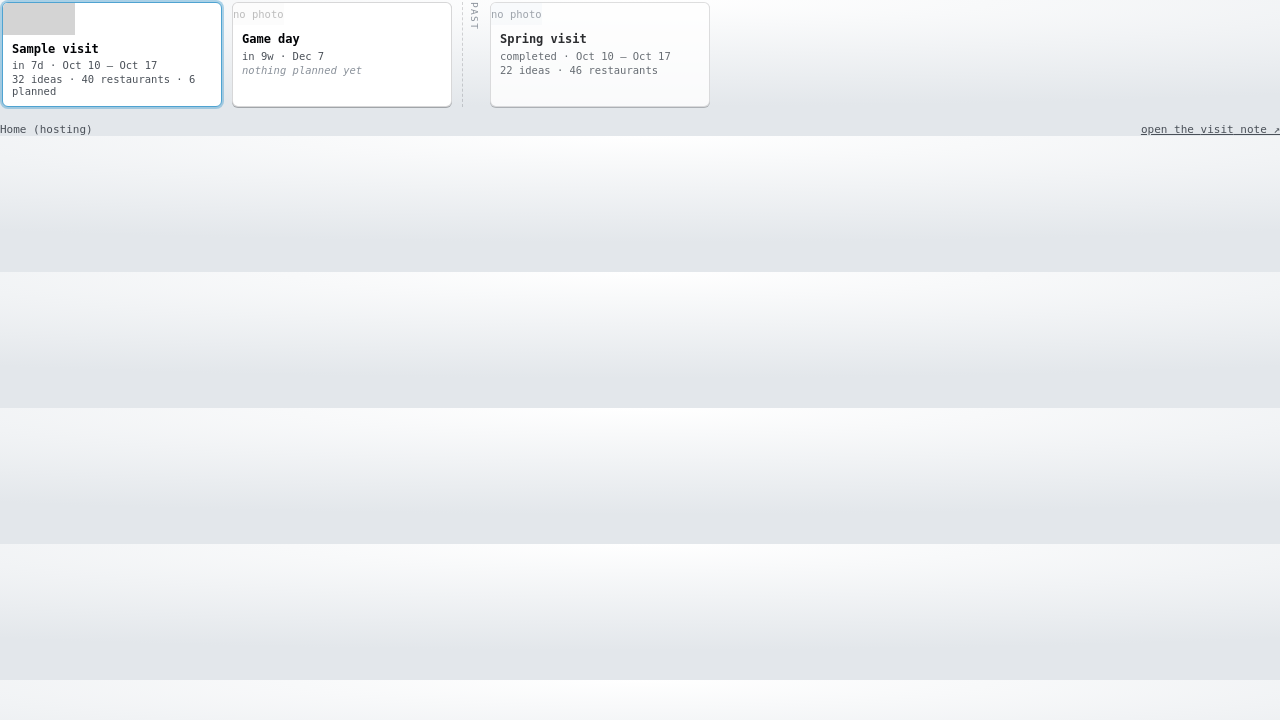
it: TripPicker › opens the selected entry's note
The width and height of the screenshot is (1280, 720).
Click the link "open the visit note ↗" at (1210, 130), box [1141,123,1279,136]
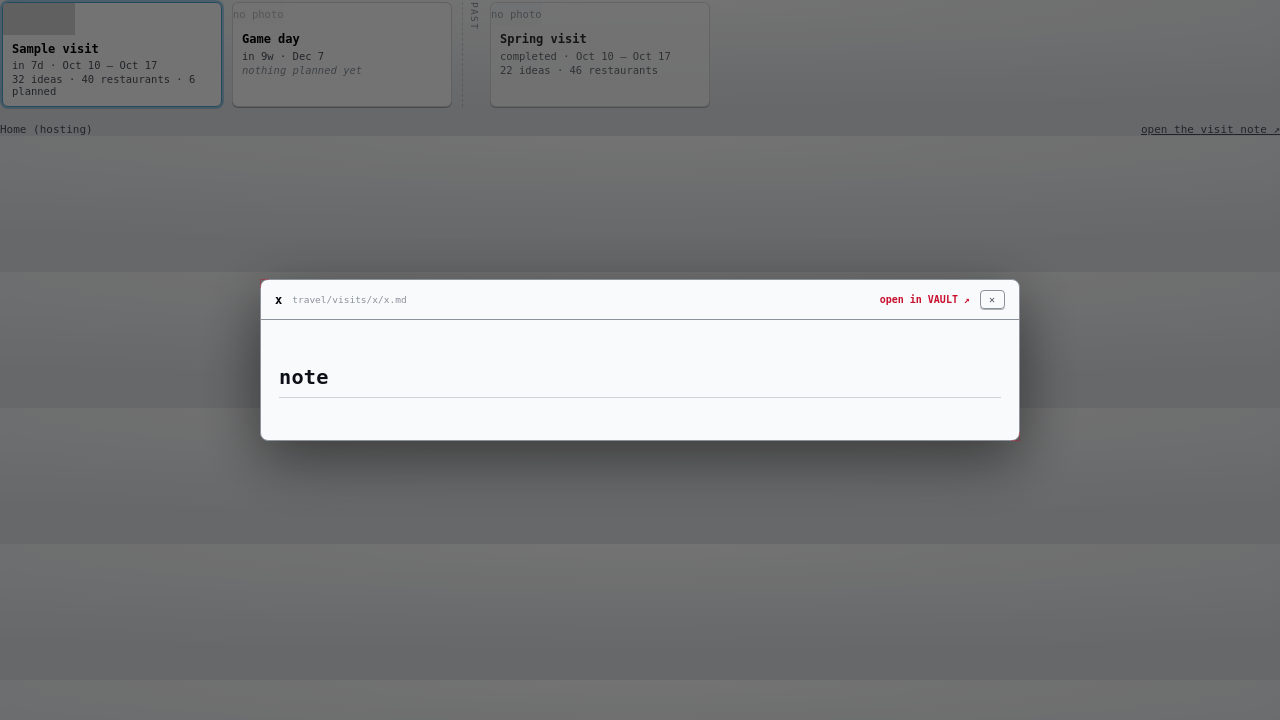
Expected: the dialog is shown, [260,279,1020,441]
